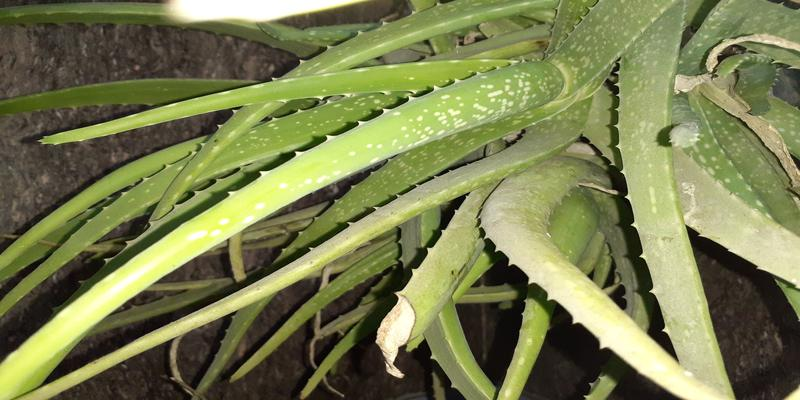Aloevera: (202, 37, 767, 347)
